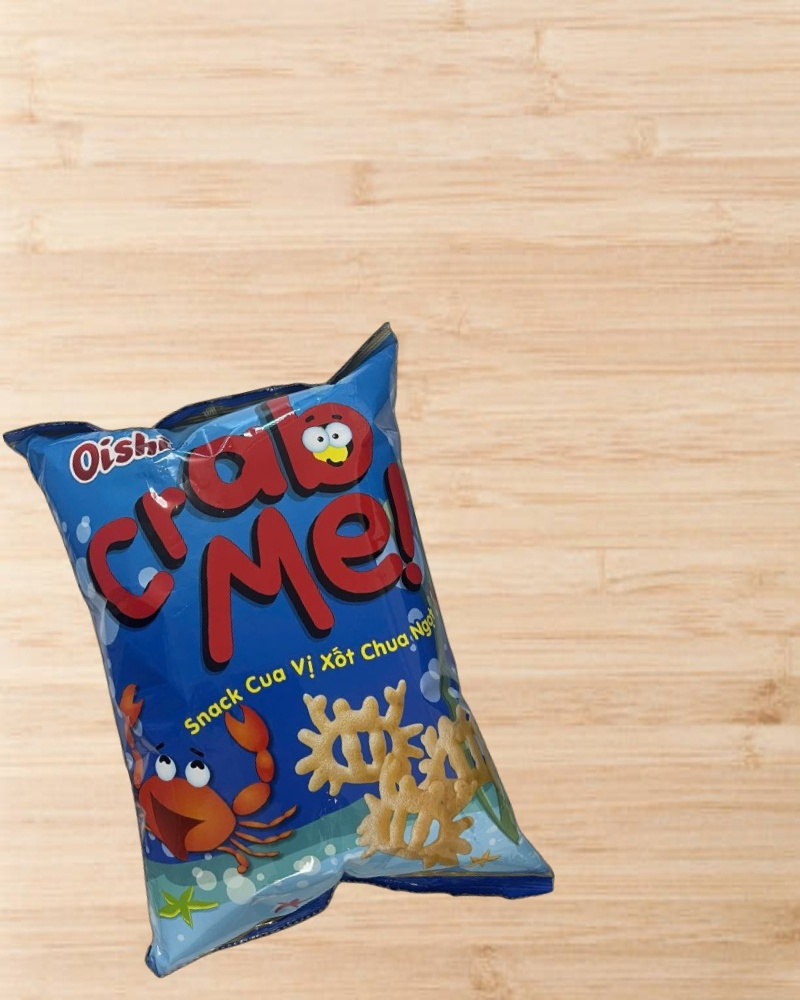Snack chay: (1, 318, 559, 1000)
